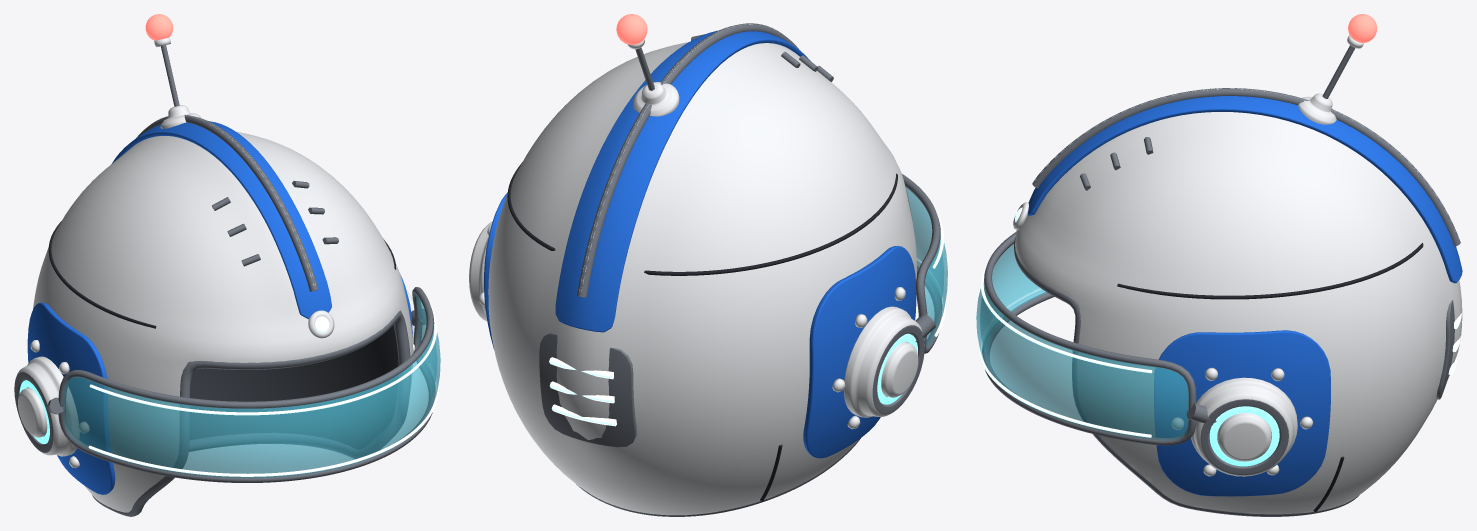
File: robot.glb
3 views of the same model, side by side, from view 1: azimuth 30°, elevation 25°; view 2: azimuth 150°, elevation 25°; view 3: azimuth 270°, elevation 25° (orthographic). The views are drawn at different scales.
Visible parts, largest first — view 1: robot_body, glass_robot_visor, glow_robot_cyan, blink_robot_bulb; view 2: robot_body, glass_robot_visor, glow_robot_cyan, blink_robot_bulb, pulse_robot_ring_R; view 3: robot_body, glass_robot_visor, glow_robot_cyan, pulse_robot_ring_L, blink_robot_bulb.
Boxes of the visible parts, x1=… form: robot_body: x1=14, y1=37, x2=435, y2=516; glass_robot_visor: x1=62, y1=294, x2=440, y2=478; glow_robot_cyan: x1=88, y1=115, x2=438, y2=476; blink_robot_bulb: x1=145, y1=14, x2=173, y2=40; robot_body: x1=469, y1=23, x2=942, y2=516; glass_robot_visor: x1=905, y1=187, x2=947, y2=347; glow_robot_cyan: x1=549, y1=24, x2=945, y2=426; blink_robot_bulb: x1=616, y1=14, x2=647, y2=44; pulse_robot_ring_R: x1=877, y1=333, x2=917, y2=404; robot_body: x1=982, y1=35, x2=1462, y2=516; glass_robot_visor: x1=976, y1=244, x2=1188, y2=440; glow_robot_cyan: x1=978, y1=88, x2=1461, y2=437; pulse_robot_ring_L: x1=1209, y1=406, x2=1279, y2=466; blink_robot_bulb: x1=1348, y1=14, x2=1377, y2=42.
Bounding box in the file's own units: 1.58 × 1.75 × 1.66.
